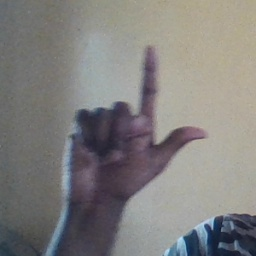L: (58, 43, 210, 203)
